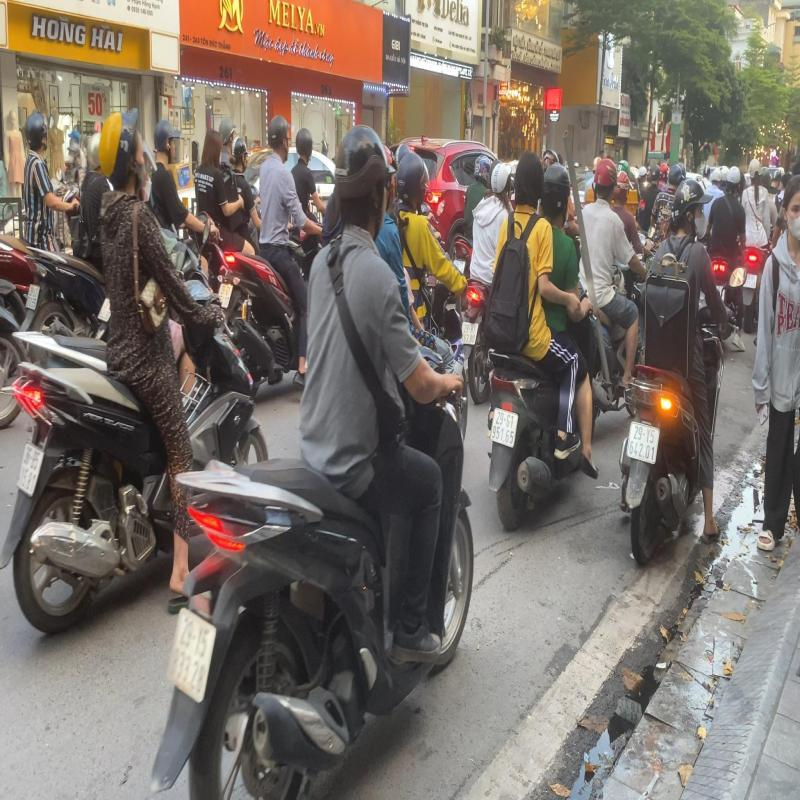nohelmet: (512, 147, 546, 218)
